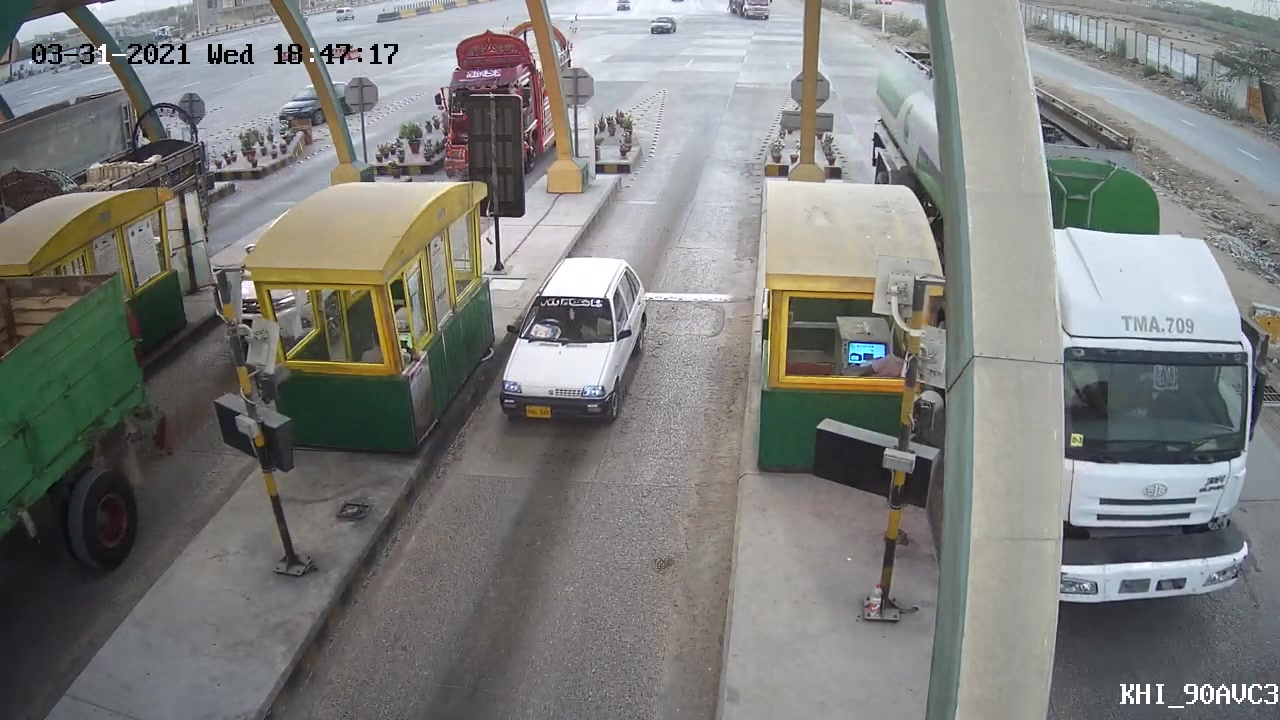F1: (491, 250, 652, 429)
